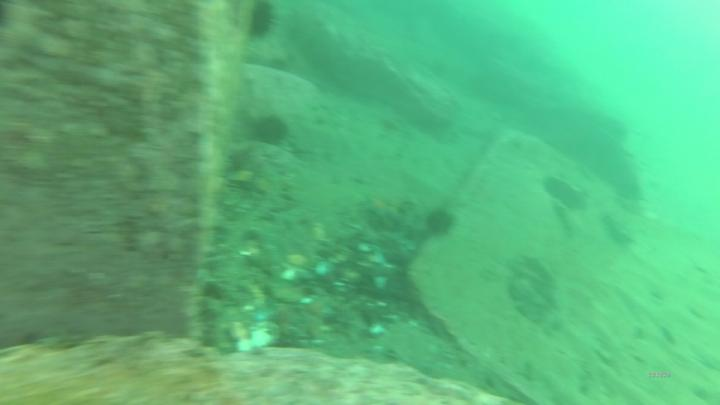echinus: (259, 110, 289, 150), (424, 205, 458, 239)
